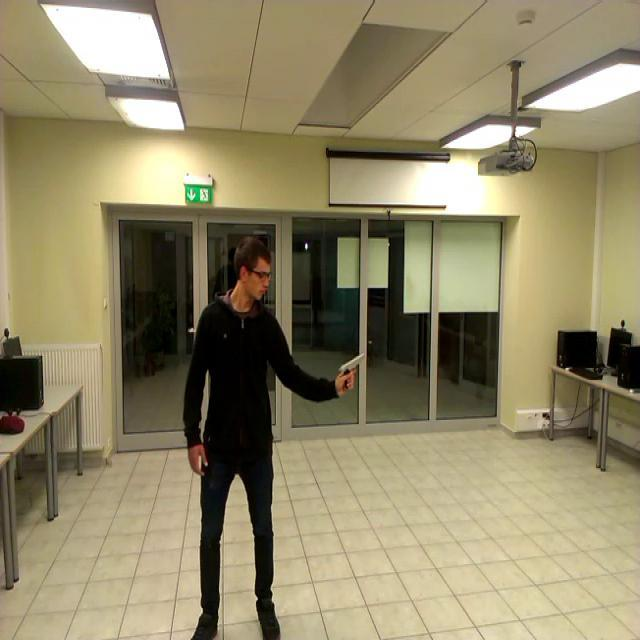Gun: (340, 352, 366, 389)
